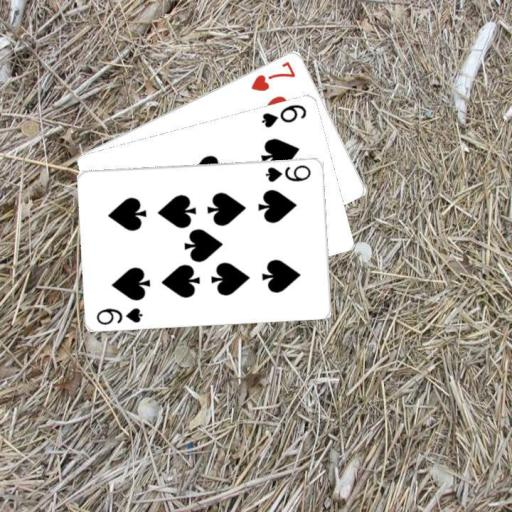6S: (258, 100, 308, 129)
7H: (248, 58, 298, 93)
9S: (262, 161, 313, 183), (94, 304, 144, 326)
